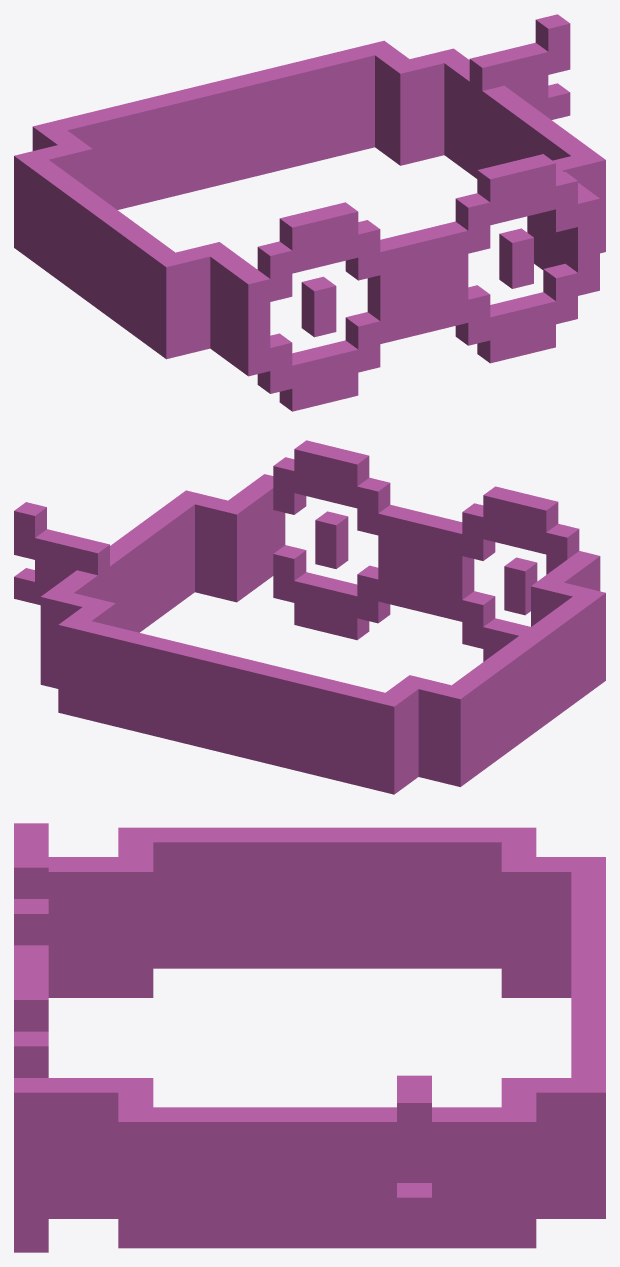
3 views of the same model, one above another, from view 1: azimuth 30°, elevation 25°; view 2: azimuth 150°, elevation 25°; view 3: azimuth 270°, elevation 25° (orthographic). The views are drawn at different scales.
Visible parts, largest first — view 1: 18; view 2: 18; view 3: 18.
Boxes of the visible parts, x1,y1,x2,y2 form: 18: (14,14,605,411); 18: (14,440,605,794); 18: (14,823,605,1252).
Size of the model in its own units: 230 by 80 by 170.
Materials: 1 (1 with a texture image).
